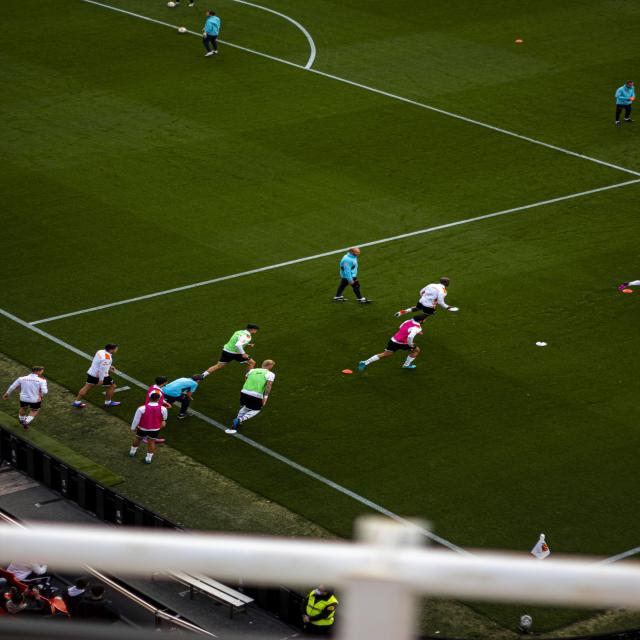adult: (358, 312, 427, 370), (226, 358, 277, 433), (201, 324, 258, 380), (394, 276, 458, 322), (2, 366, 48, 429), (74, 343, 118, 406), (129, 392, 167, 463), (163, 372, 205, 419), (335, 246, 370, 301), (614, 81, 636, 123), (145, 376, 172, 408), (202, 10, 220, 56)
